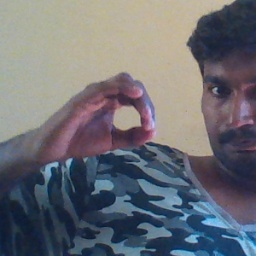O: (38, 70, 160, 166)
